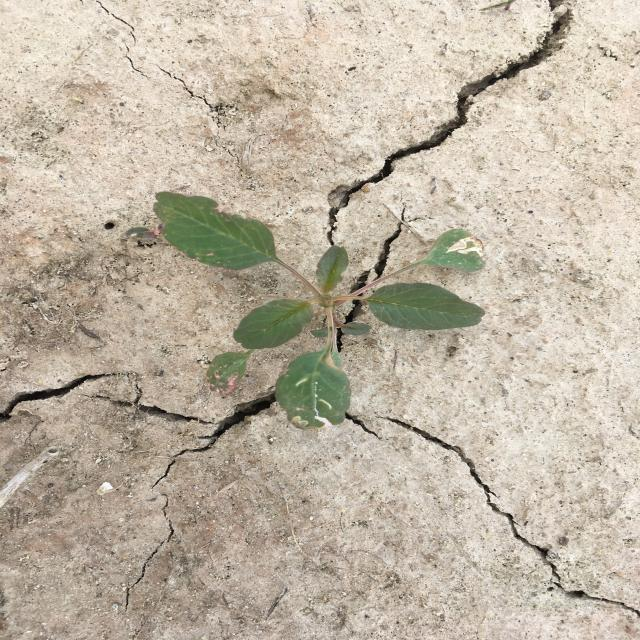PalmerAmaranth: (123, 191, 486, 430)
